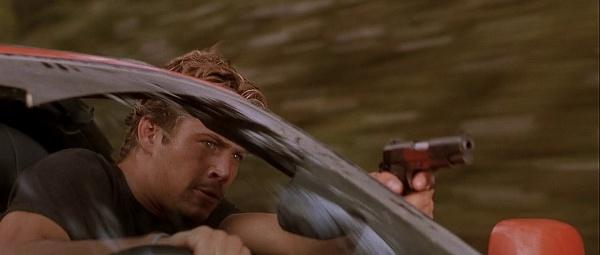Gun: (380, 133, 477, 197)
